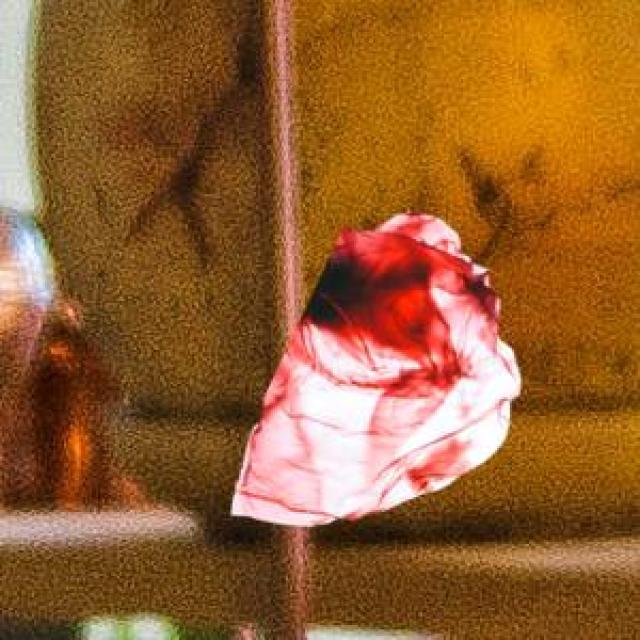Plastic_Bag: (230, 208, 518, 522)
